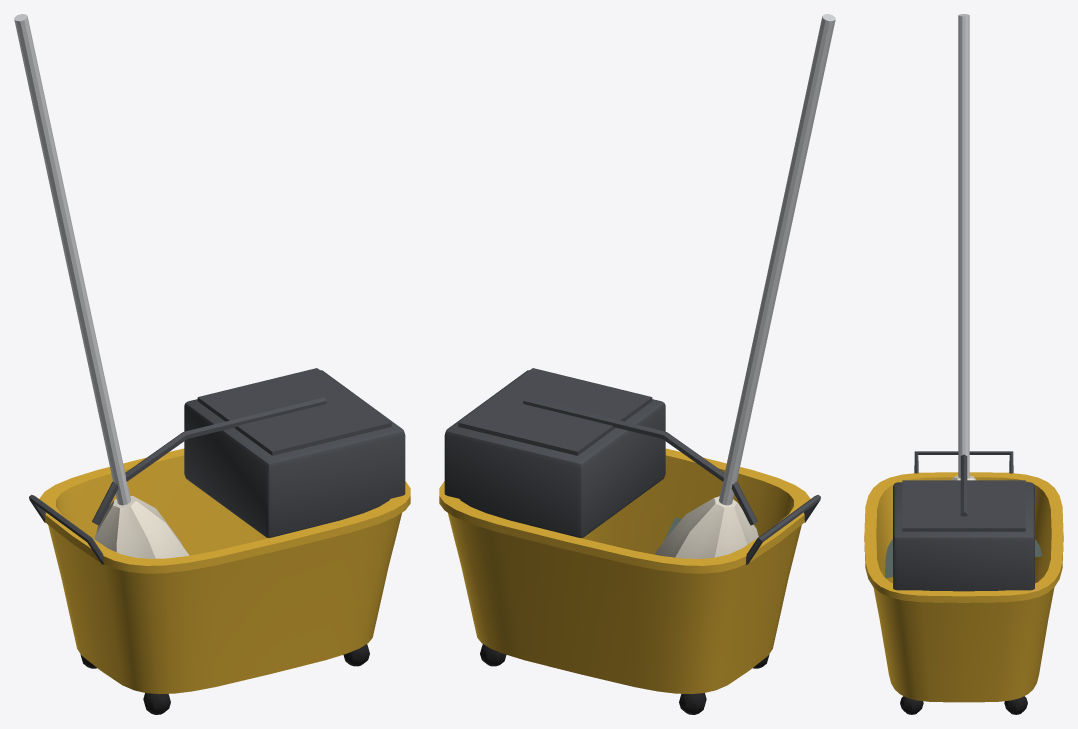
Rendered from mop_bucket.glb.
3 renders of one model, left to right at view 1: azimuth 30°, elevation 25°; view 2: azimuth 150°, elevation 25°; view 3: azimuth 270°, elevation 25°, orthographic. The views are drawn at different scales.
Visible parts, largest first — view 1: mop_bucket, mop; view 2: mop_bucket, mop; view 3: mop_bucket, mop.
Boxes of the visible parts, x1,y1,x2,y2 form: mop_bucket: (29, 368, 410, 714); mop: (14, 14, 189, 558); mop_bucket: (439, 368, 820, 714); mop: (655, 14, 835, 558); mop_bucket: (864, 451, 1063, 714); mop: (951, 14, 976, 480).
Size of the model in its own units: 0.7314 by 1.34 by 0.42.
